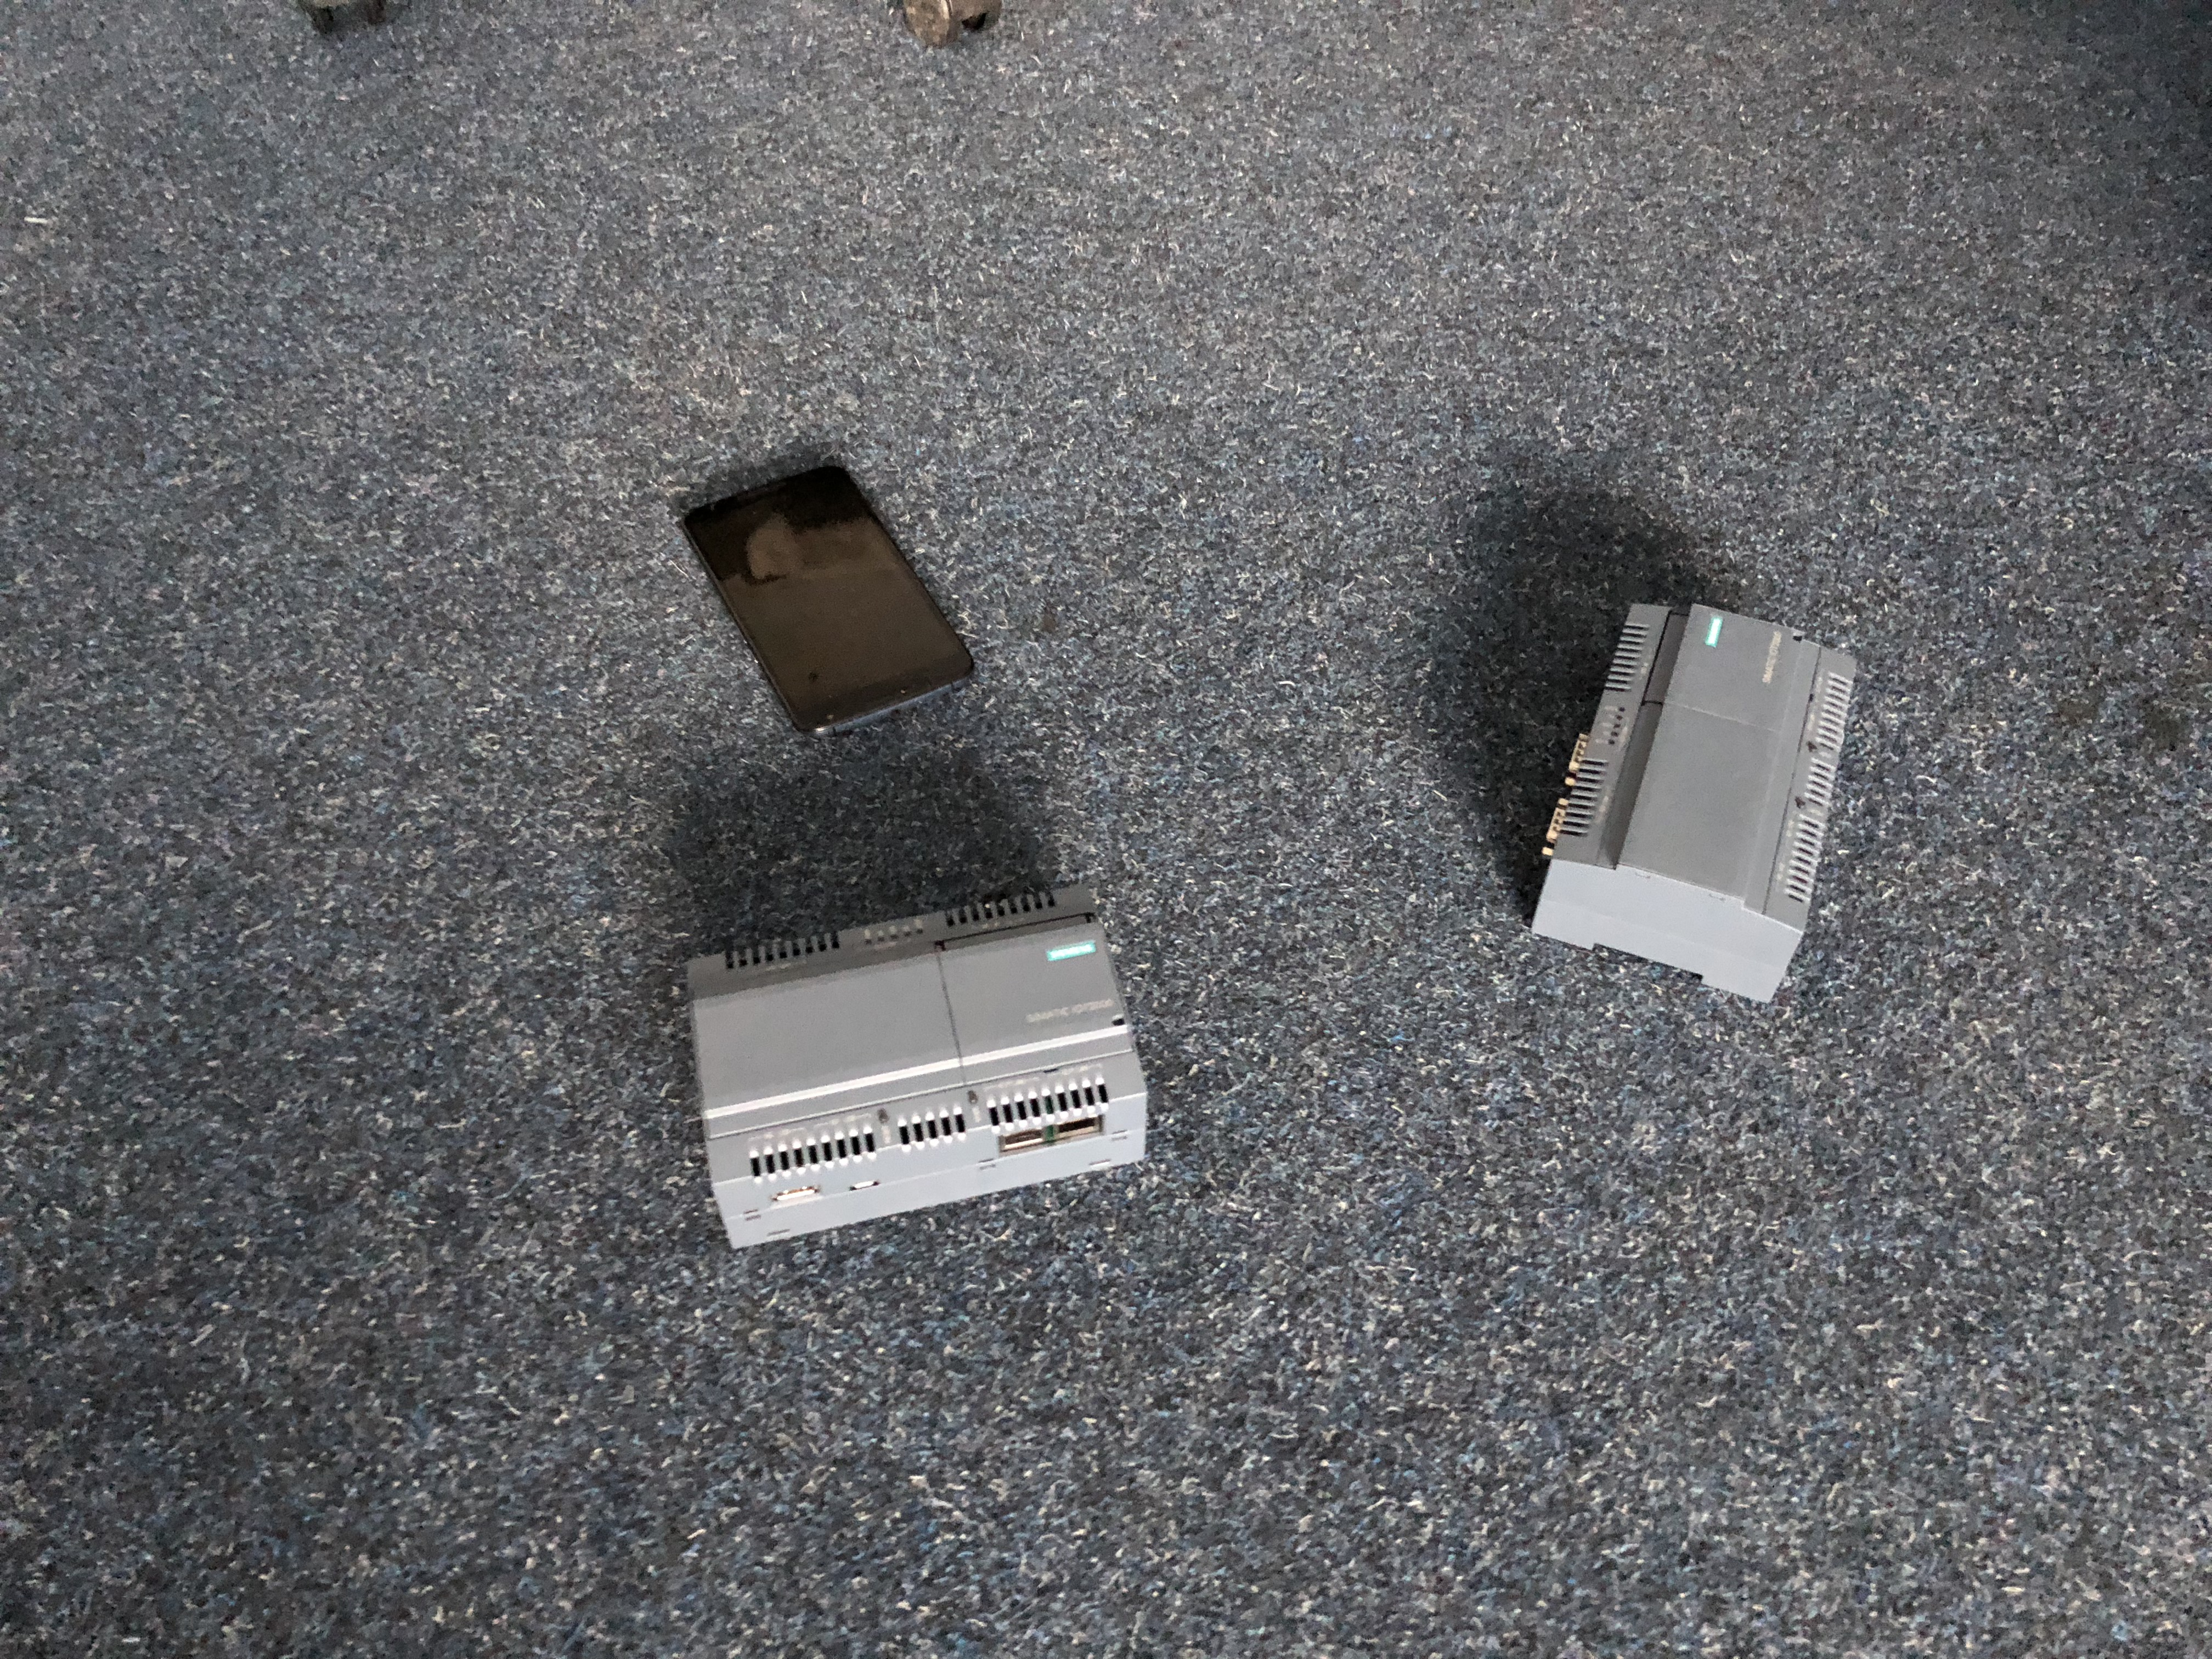device: (686, 884, 1148, 1249), (1529, 605, 1858, 1004)
